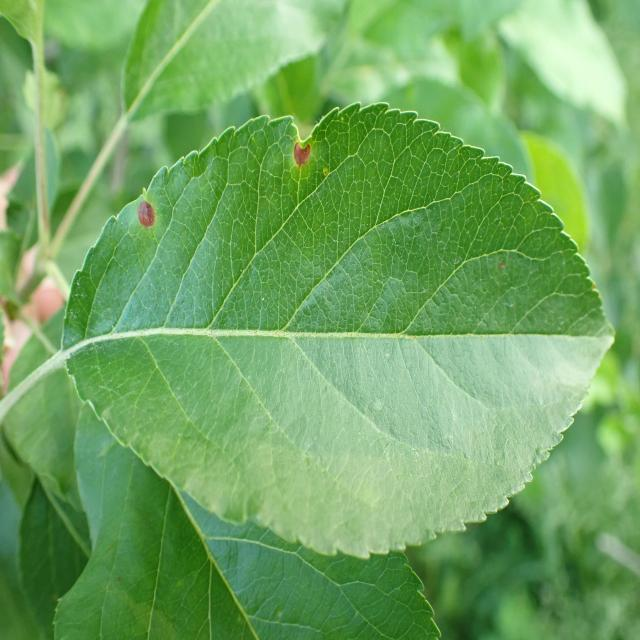Black Rot: (126, 179, 180, 257), (278, 120, 330, 193)
